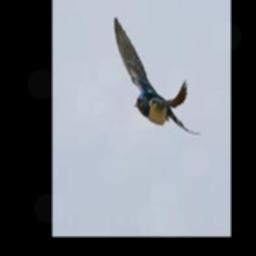Swallow: (114, 15, 200, 137)
